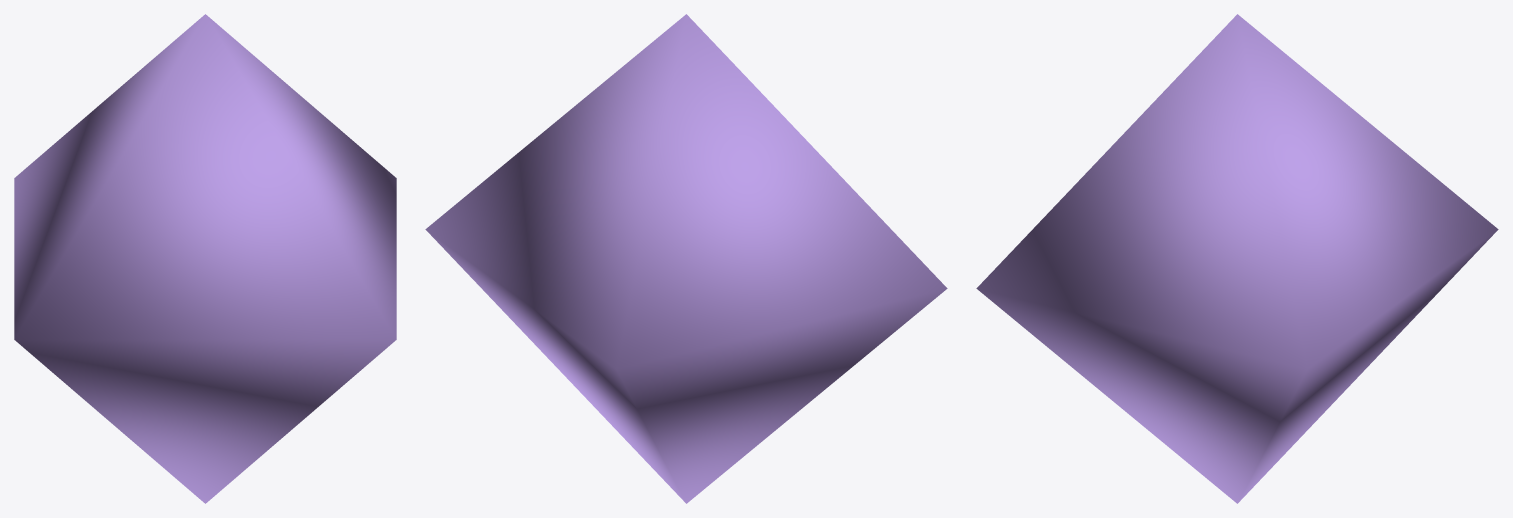
File: cam_21.DAE
3 views of the same model, side by side, from view 1: azimuth 30°, elevation 25°; view 2: azimuth 150°, elevation 25°; view 3: azimuth 270°, elevation 25° (orthographic).
Parts seen in each view (by area): view 1: CamDummy; view 2: CamDummy; view 3: CamDummy.
Part boxes in pixels (x1,y1,x2,y2): CamDummy: (14, 14, 396, 503); CamDummy: (425, 14, 947, 503); CamDummy: (976, 14, 1498, 503).
Size of the model in its own units: 38.64 by 38.64 by 40.
